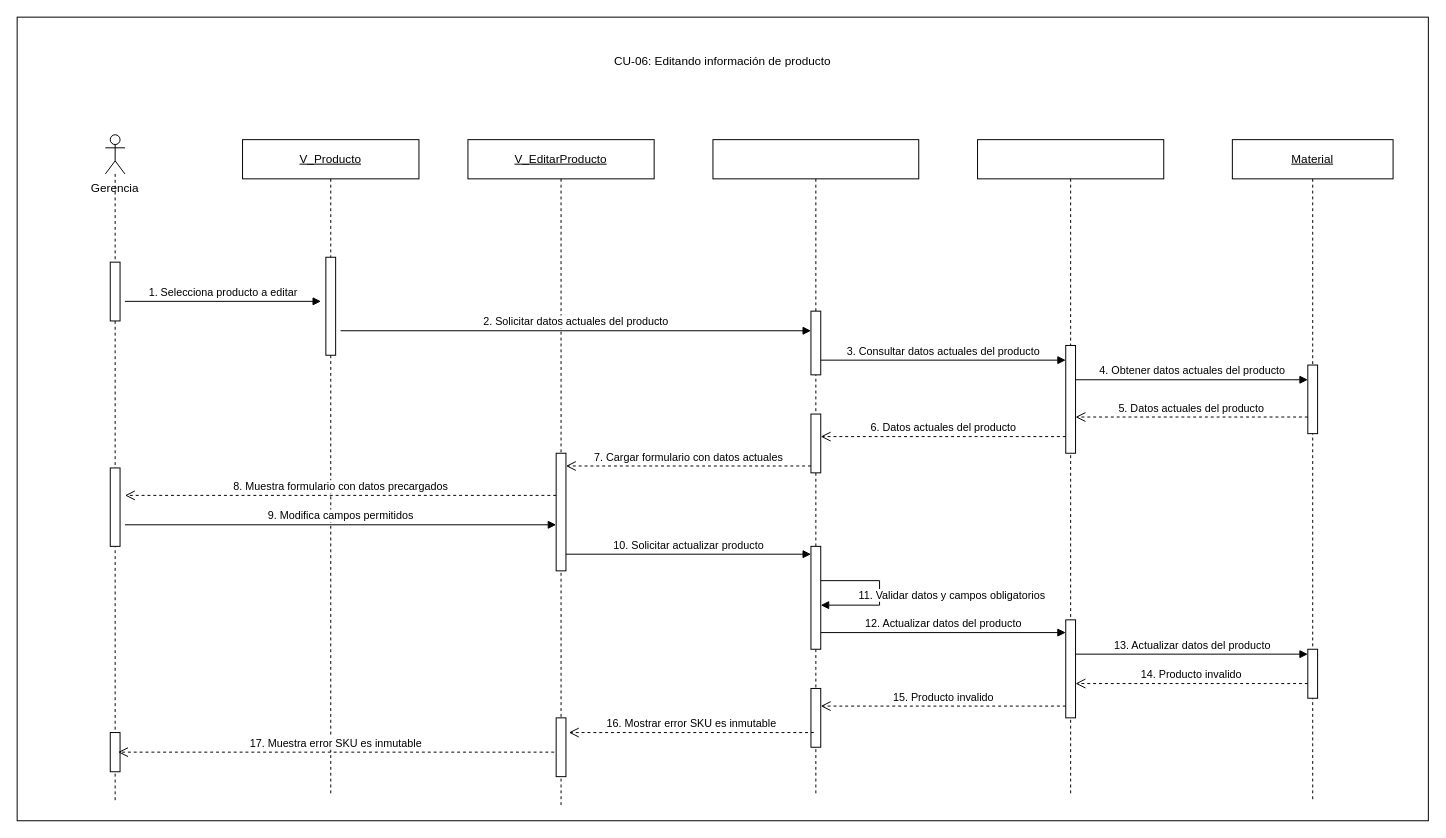
This 1446x838 diagram has some shape labels left out. The centre of each missing label's shape, as x and y in pixels:
"C_ materiales" goes at [815,467].
"C_ Postgre" goes at [1070,467].
